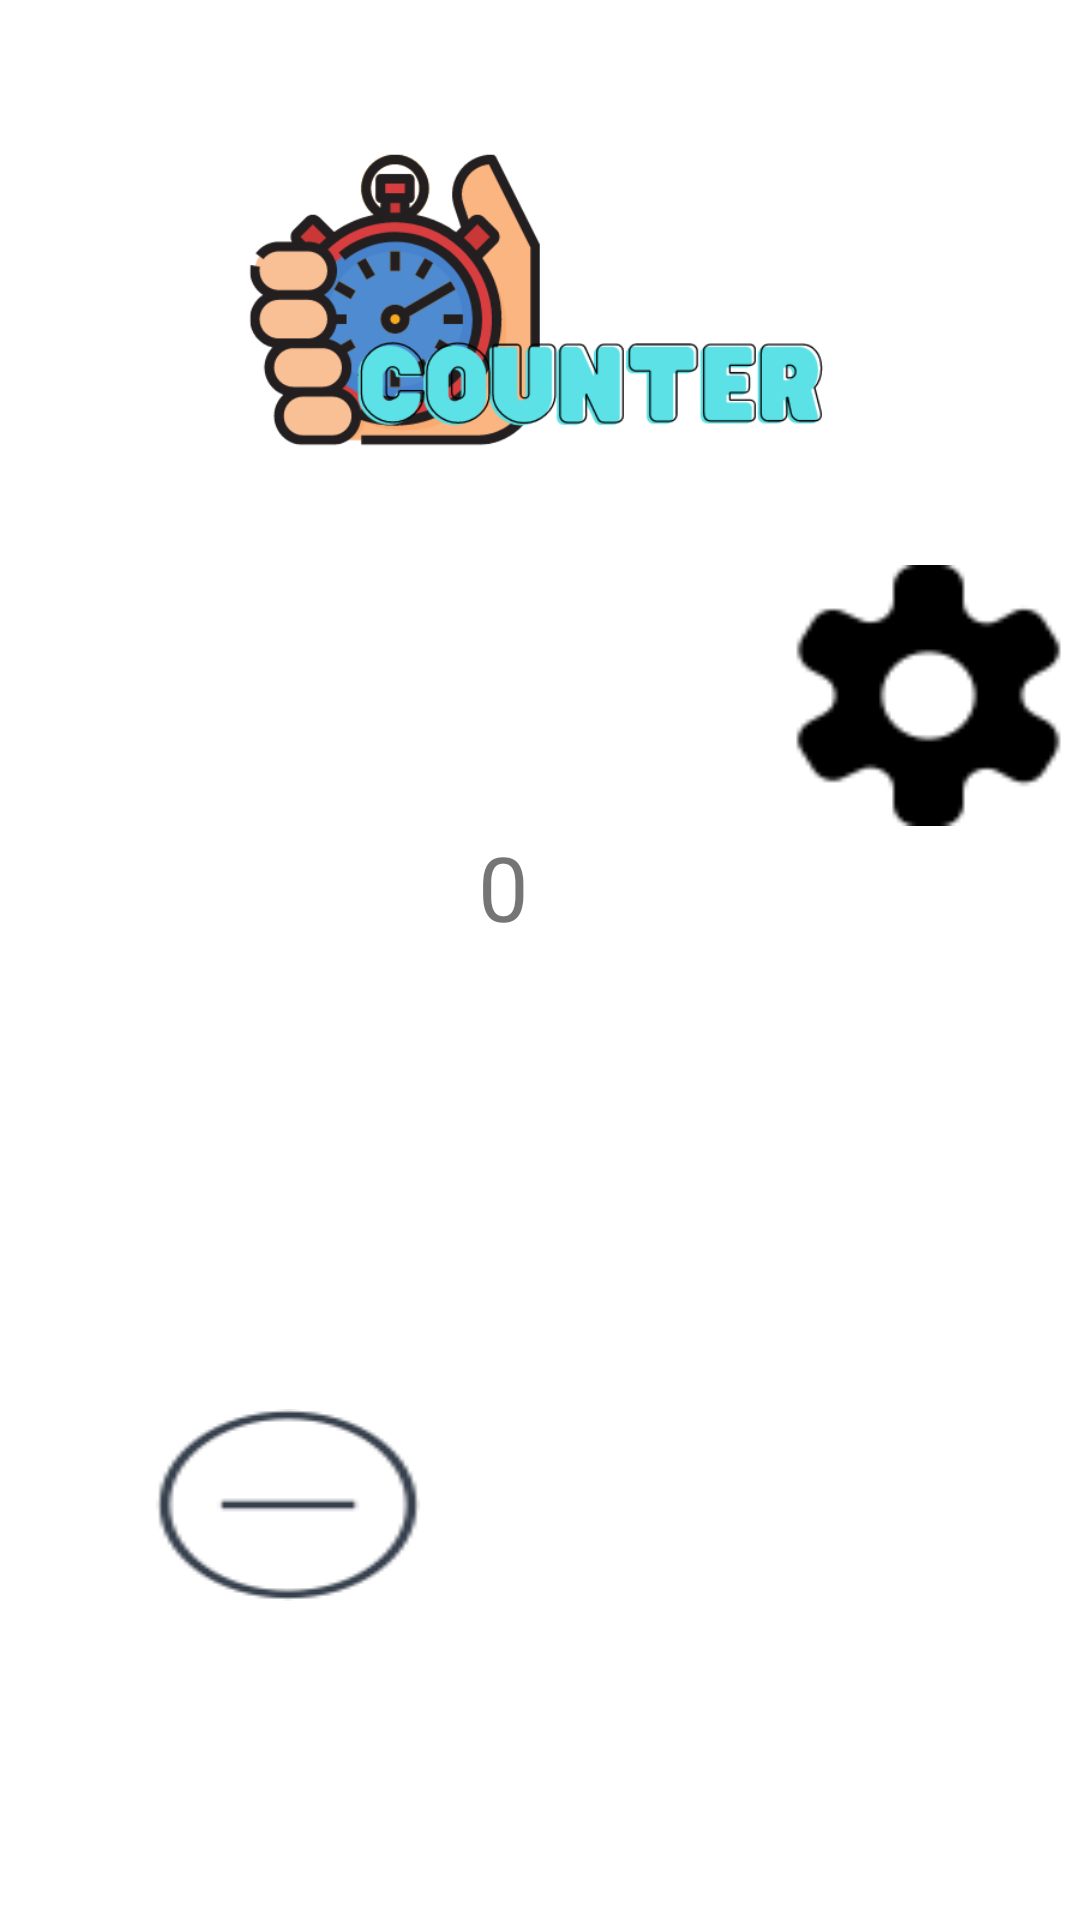

Locate icon controls on the screen. Image size 1080*1920, boxes as region(x1, y1, x2, y2).
ayarlar: region(796, 565, 1061, 826)
isaret eksi: region(158, 1409, 418, 1599)
